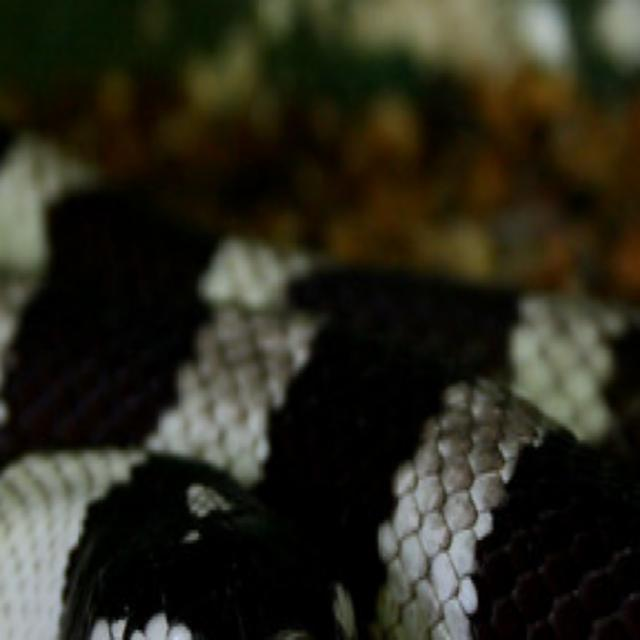Snake: (0, 43, 640, 640)
